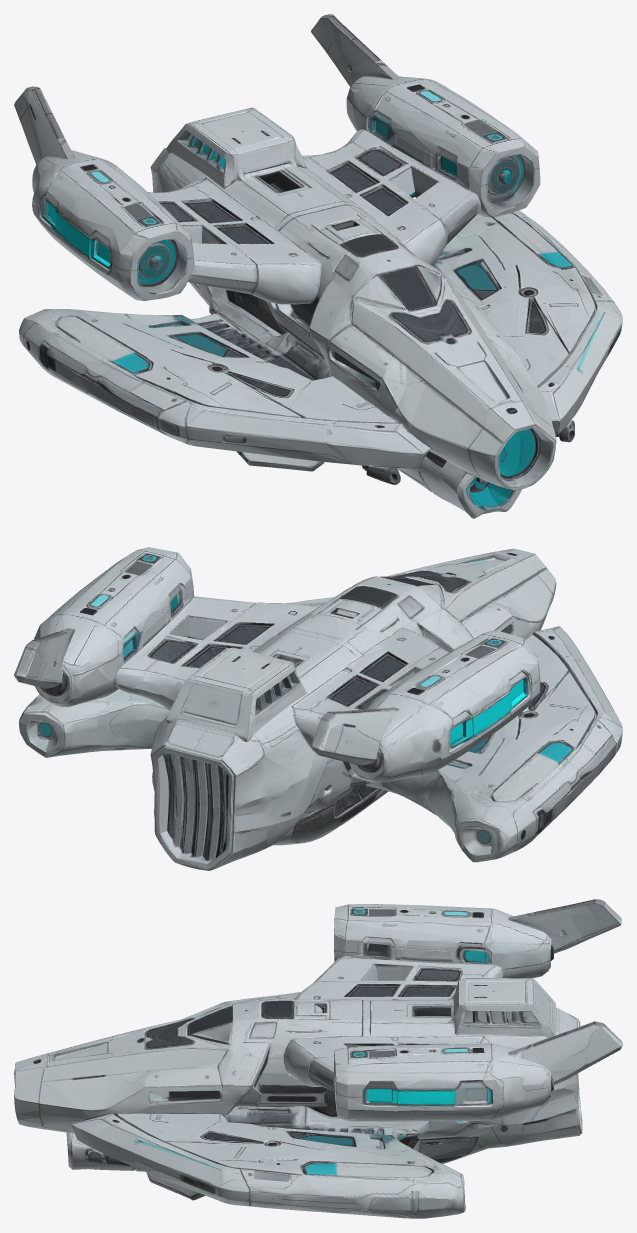
Rendered from drone_phase_interceptor_3.glb.
3 renders of one model, top to bottom at view 1: azimuth 30°, elevation 25°; view 2: azimuth 150°, elevation 25°; view 3: azimuth 270°, elevation 25°, orthographic. The views are drawn at different scales.
Visible parts, largest first — view 1: Mesh_0; view 2: Mesh_0; view 3: Mesh_0.
Boxes of the visible parts, box(x1,y1,x2,y2) form: Mesh_0: box(14, 14, 622, 518); Mesh_0: box(14, 547, 622, 870); Mesh_0: box(14, 899, 622, 1218).
Bounding box in the file's own units: 1.53 × 0.708 × 1.9.
Materials: 1 (1 with a texture image).
